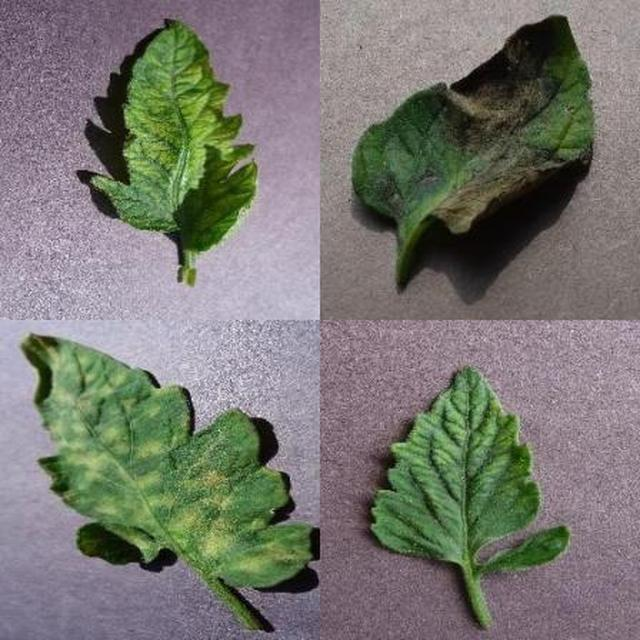Mosaic Virus Leaf: (240, 179, 640, 640)
